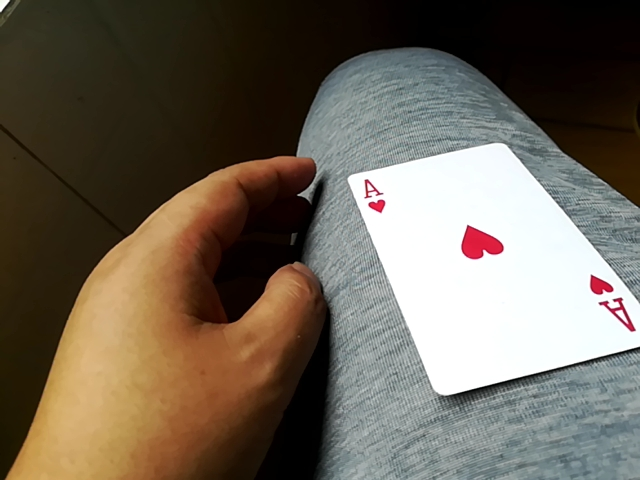hx a: (346, 141, 639, 399)
